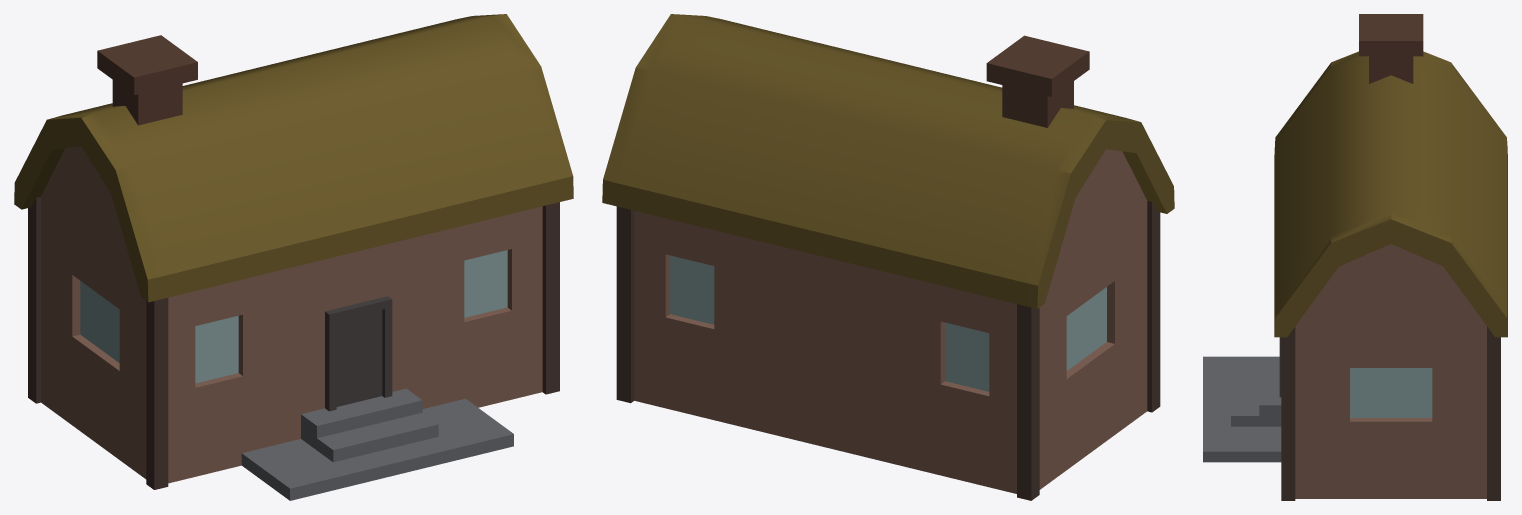
The model's file is house2.fbx.
3 renders of one model, left to right at view 1: azimuth 30°, elevation 25°; view 2: azimuth 150°, elevation 25°; view 3: azimuth 270°, elevation 25°, orthographic. The views are drawn at different scales.
Visible parts, largest first — view 1: pCube4; view 2: pCube4; view 3: pCube4.
Part boxes in pixels (bbox=[...]): pCube4: bbox=[14, 14, 573, 500]; pCube4: bbox=[602, 14, 1174, 500]; pCube4: bbox=[1203, 14, 1507, 500].
Bounding box in the file's own units: 86.2 × 72.38 × 61.5.
